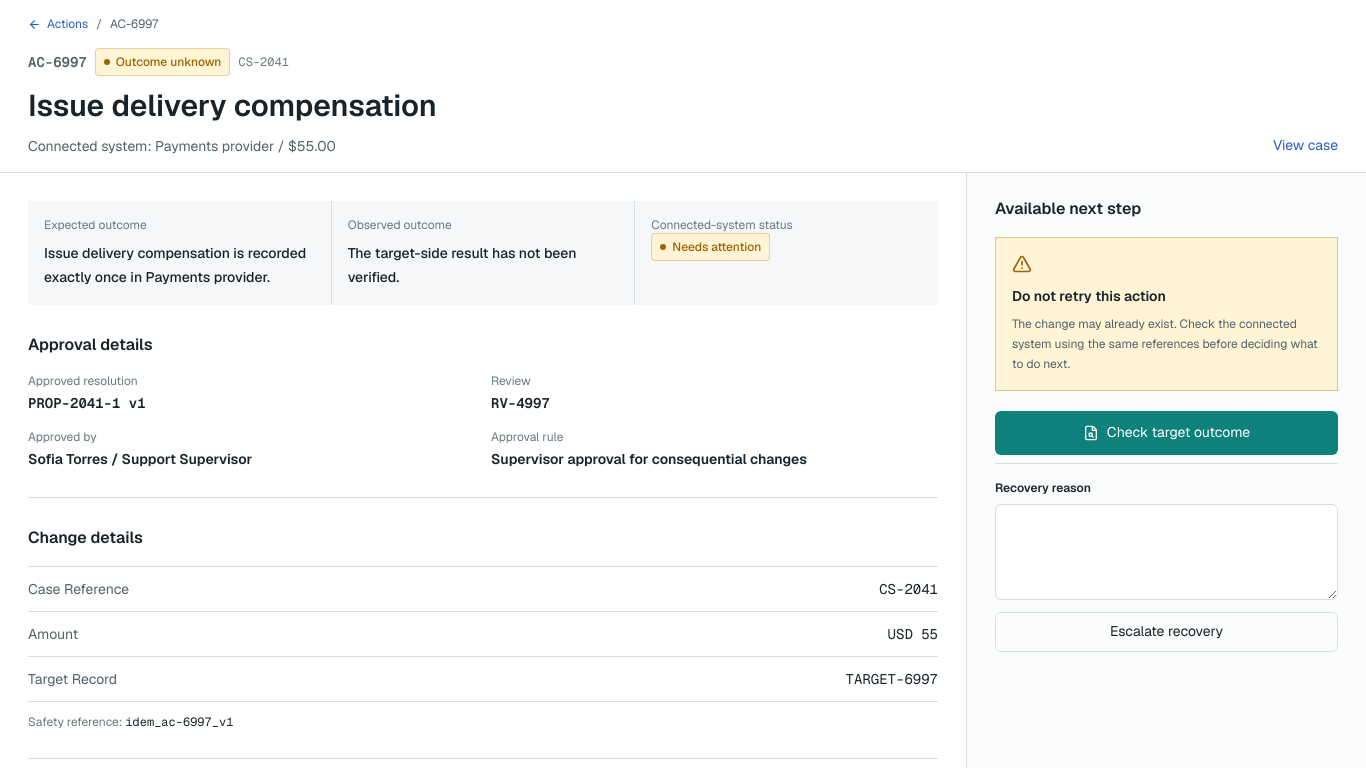
ActionDetail › reconciles an unknown outcome without exposing retry
Check: the heading "Do not retry this action" is shown, box left=1012, top=286, right=1166, bottom=304
Check: the text "Needs attention" is shown, box left=651, top=232, right=770, bottom=260
Click the button "Check target outcome": (1166, 432) left=995, top=410, right=1338, bottom=454
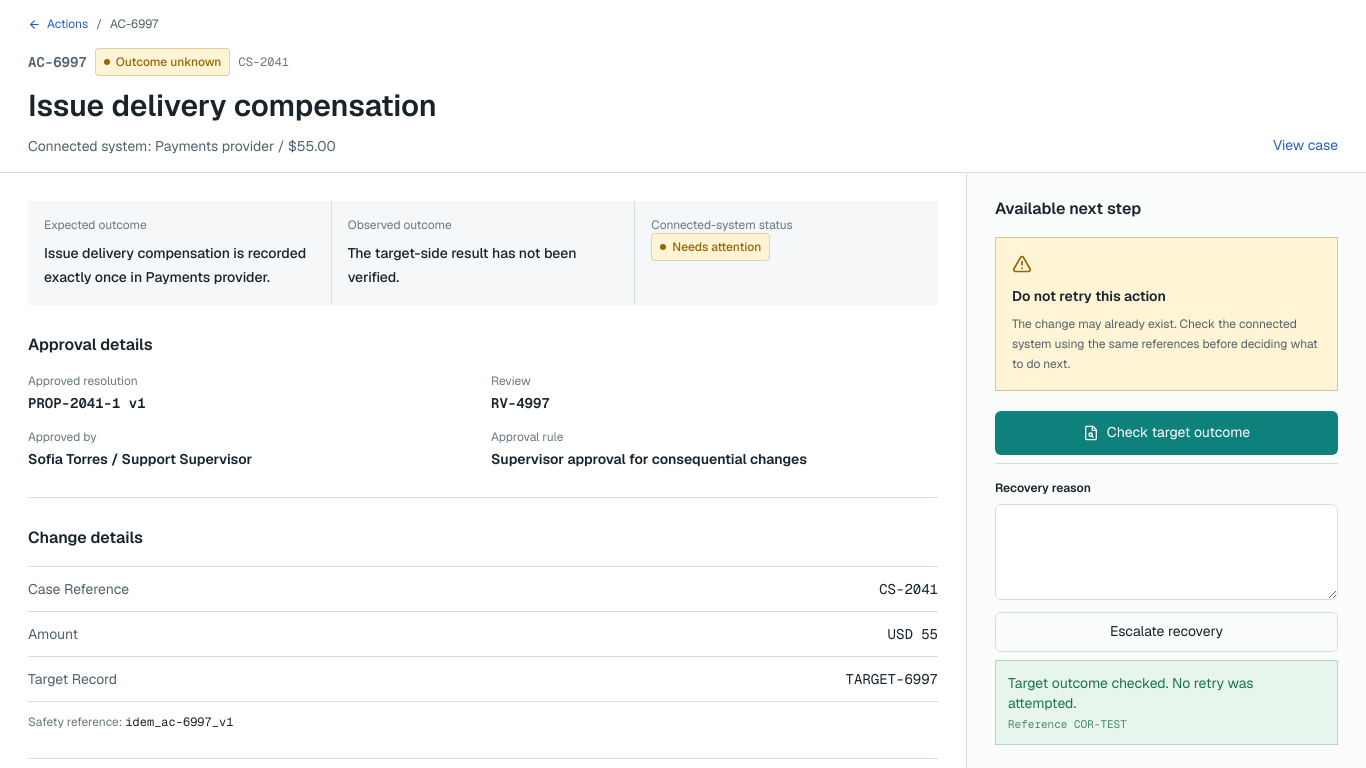
Check: the message shows "No retry was attempted", box left=1008, top=674, right=1254, bottom=712
